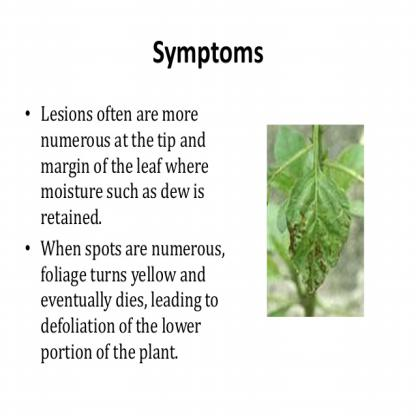tomato leaf bacterial spot: (286, 167, 351, 303)
